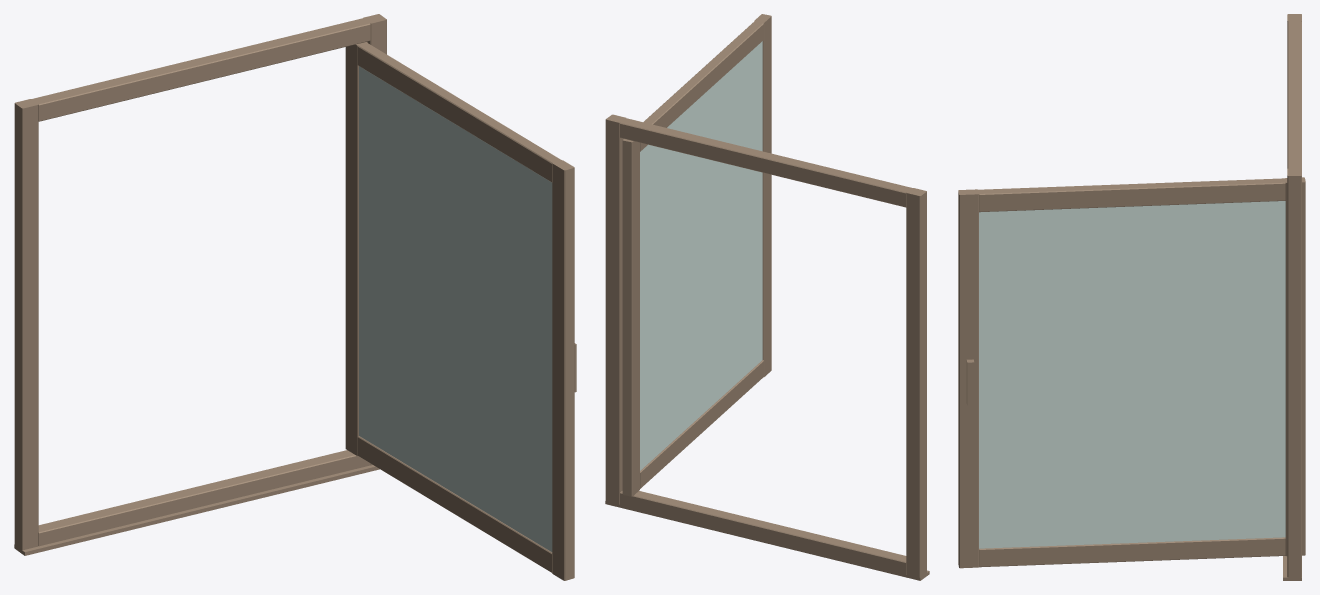
The model's file is bt-S46-1-ouvert-quartz-1019.glb.
3 views of the same model, side by side, from view 1: azimuth 30°, elevation 25°; view 2: azimuth 150°, elevation 25°; view 3: azimuth 270°, elevation 25° (orthographic). The views are drawn at different scales.
Parts seen in each view (by area): view 1: verre, structure; view 2: structure, verre; view 3: verre, structure.
Part boxes in pixels (bbox=[...]): verre: bbox=[359, 66, 552, 551]; structure: bbox=[14, 14, 576, 580]; structure: bbox=[605, 14, 929, 580]; verre: bbox=[640, 41, 762, 470]; verre: bbox=[979, 201, 1285, 548]; structure: bbox=[958, 14, 1305, 580].
Bounding box in the file's own units: 1.24 × 1.4 × 1.09.
